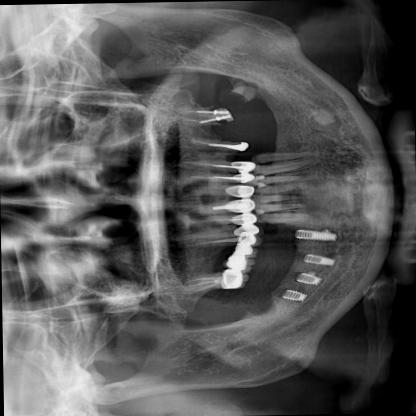Bicon: (293, 248, 342, 269), (285, 266, 330, 287), (286, 225, 343, 241), (277, 284, 314, 304)
